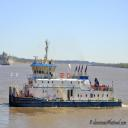tugboat: (9, 39, 124, 111)
